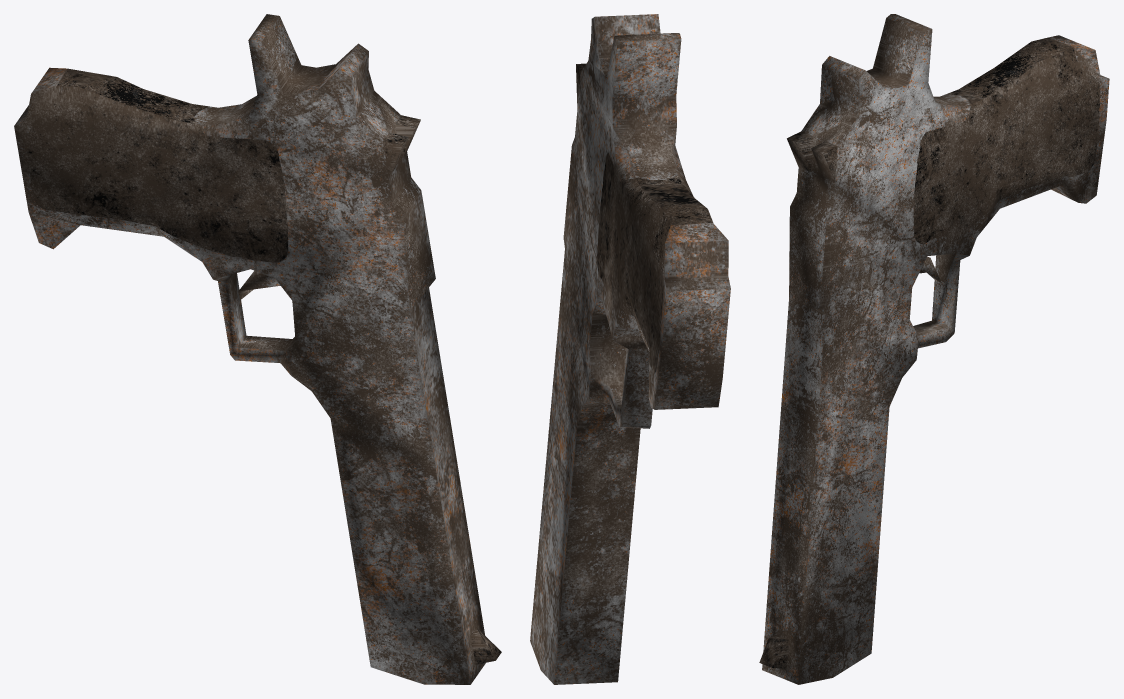
File: Anim_idle_pistola_objetos.0052.obj
3 renders of one model, left to right at view 1: azimuth 30°, elevation 25°; view 2: azimuth 150°, elevation 25°; view 3: azimuth 270°, elevation 25°, orthographic. The views are drawn at different scales.
Visible parts, largest first — view 1: Pistola1; view 2: Pistola1; view 3: Pistola1.
Part boxes in pixels (x1=…): Pistola1: x1=14, y1=14, x2=501, y2=684; Pistola1: x1=530, y1=14, x2=730, y2=684; Pistola1: x1=759, y1=14, x2=1109, y2=684.
Size of the model in its own units: 0.8974 by 1.67 by 0.8891.
